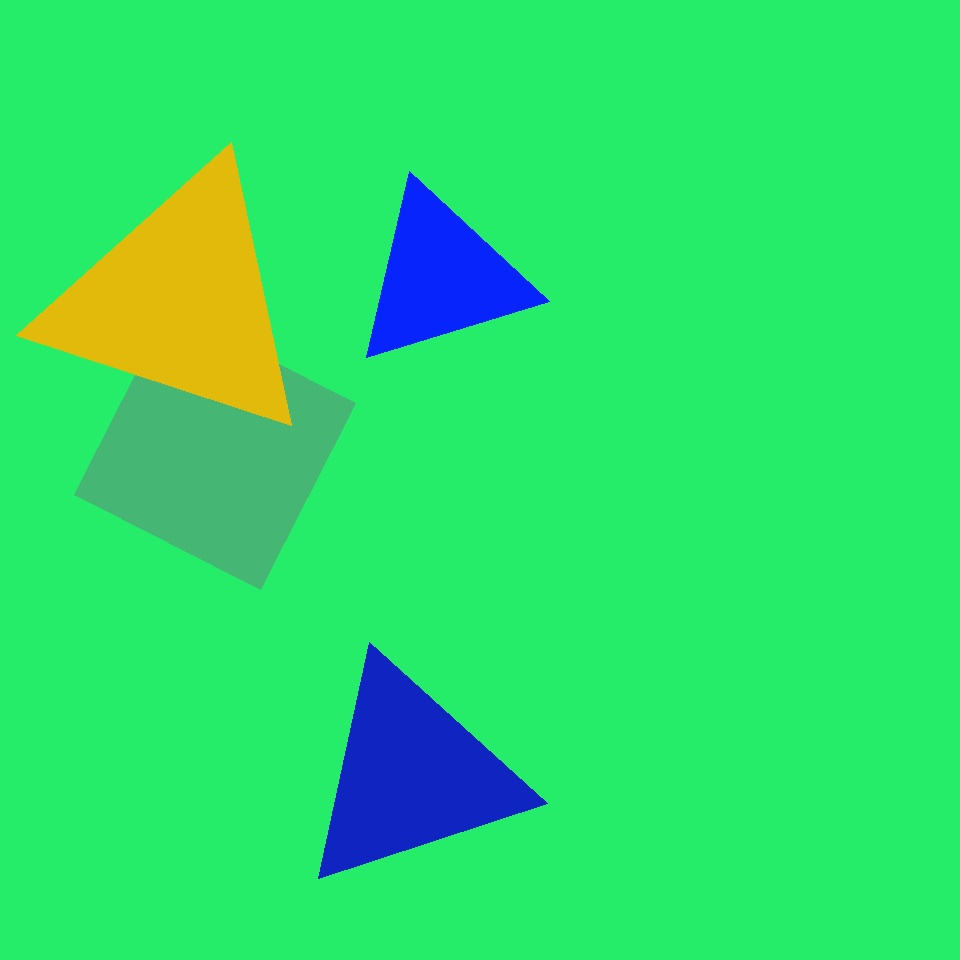circle: (43, 160, 317, 442), (298, 657, 526, 893), (350, 184, 534, 370), (499, 200, 672, 353)
square: (74, 308, 356, 590), (537, 571, 723, 757), (456, 64, 573, 181)
